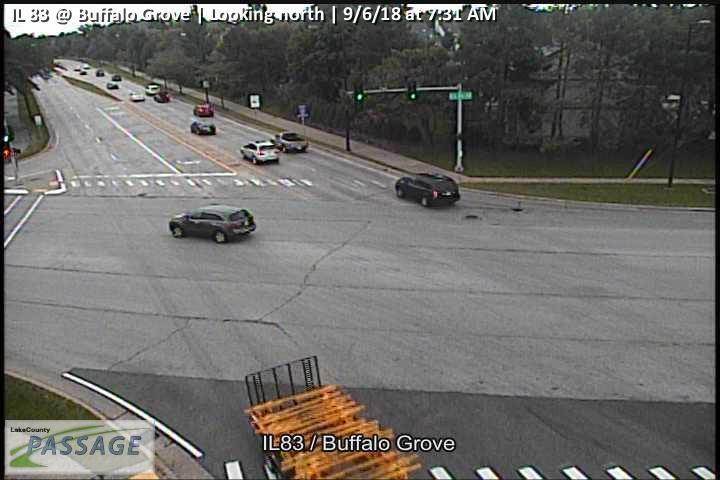SUV: (168, 204, 256, 243), (396, 174, 460, 206), (242, 141, 280, 165)
Sedan: (271, 132, 309, 153), (190, 120, 217, 137), (193, 103, 215, 118)
